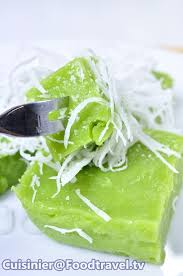kanompiakpoon: (19, 49, 183, 268)
